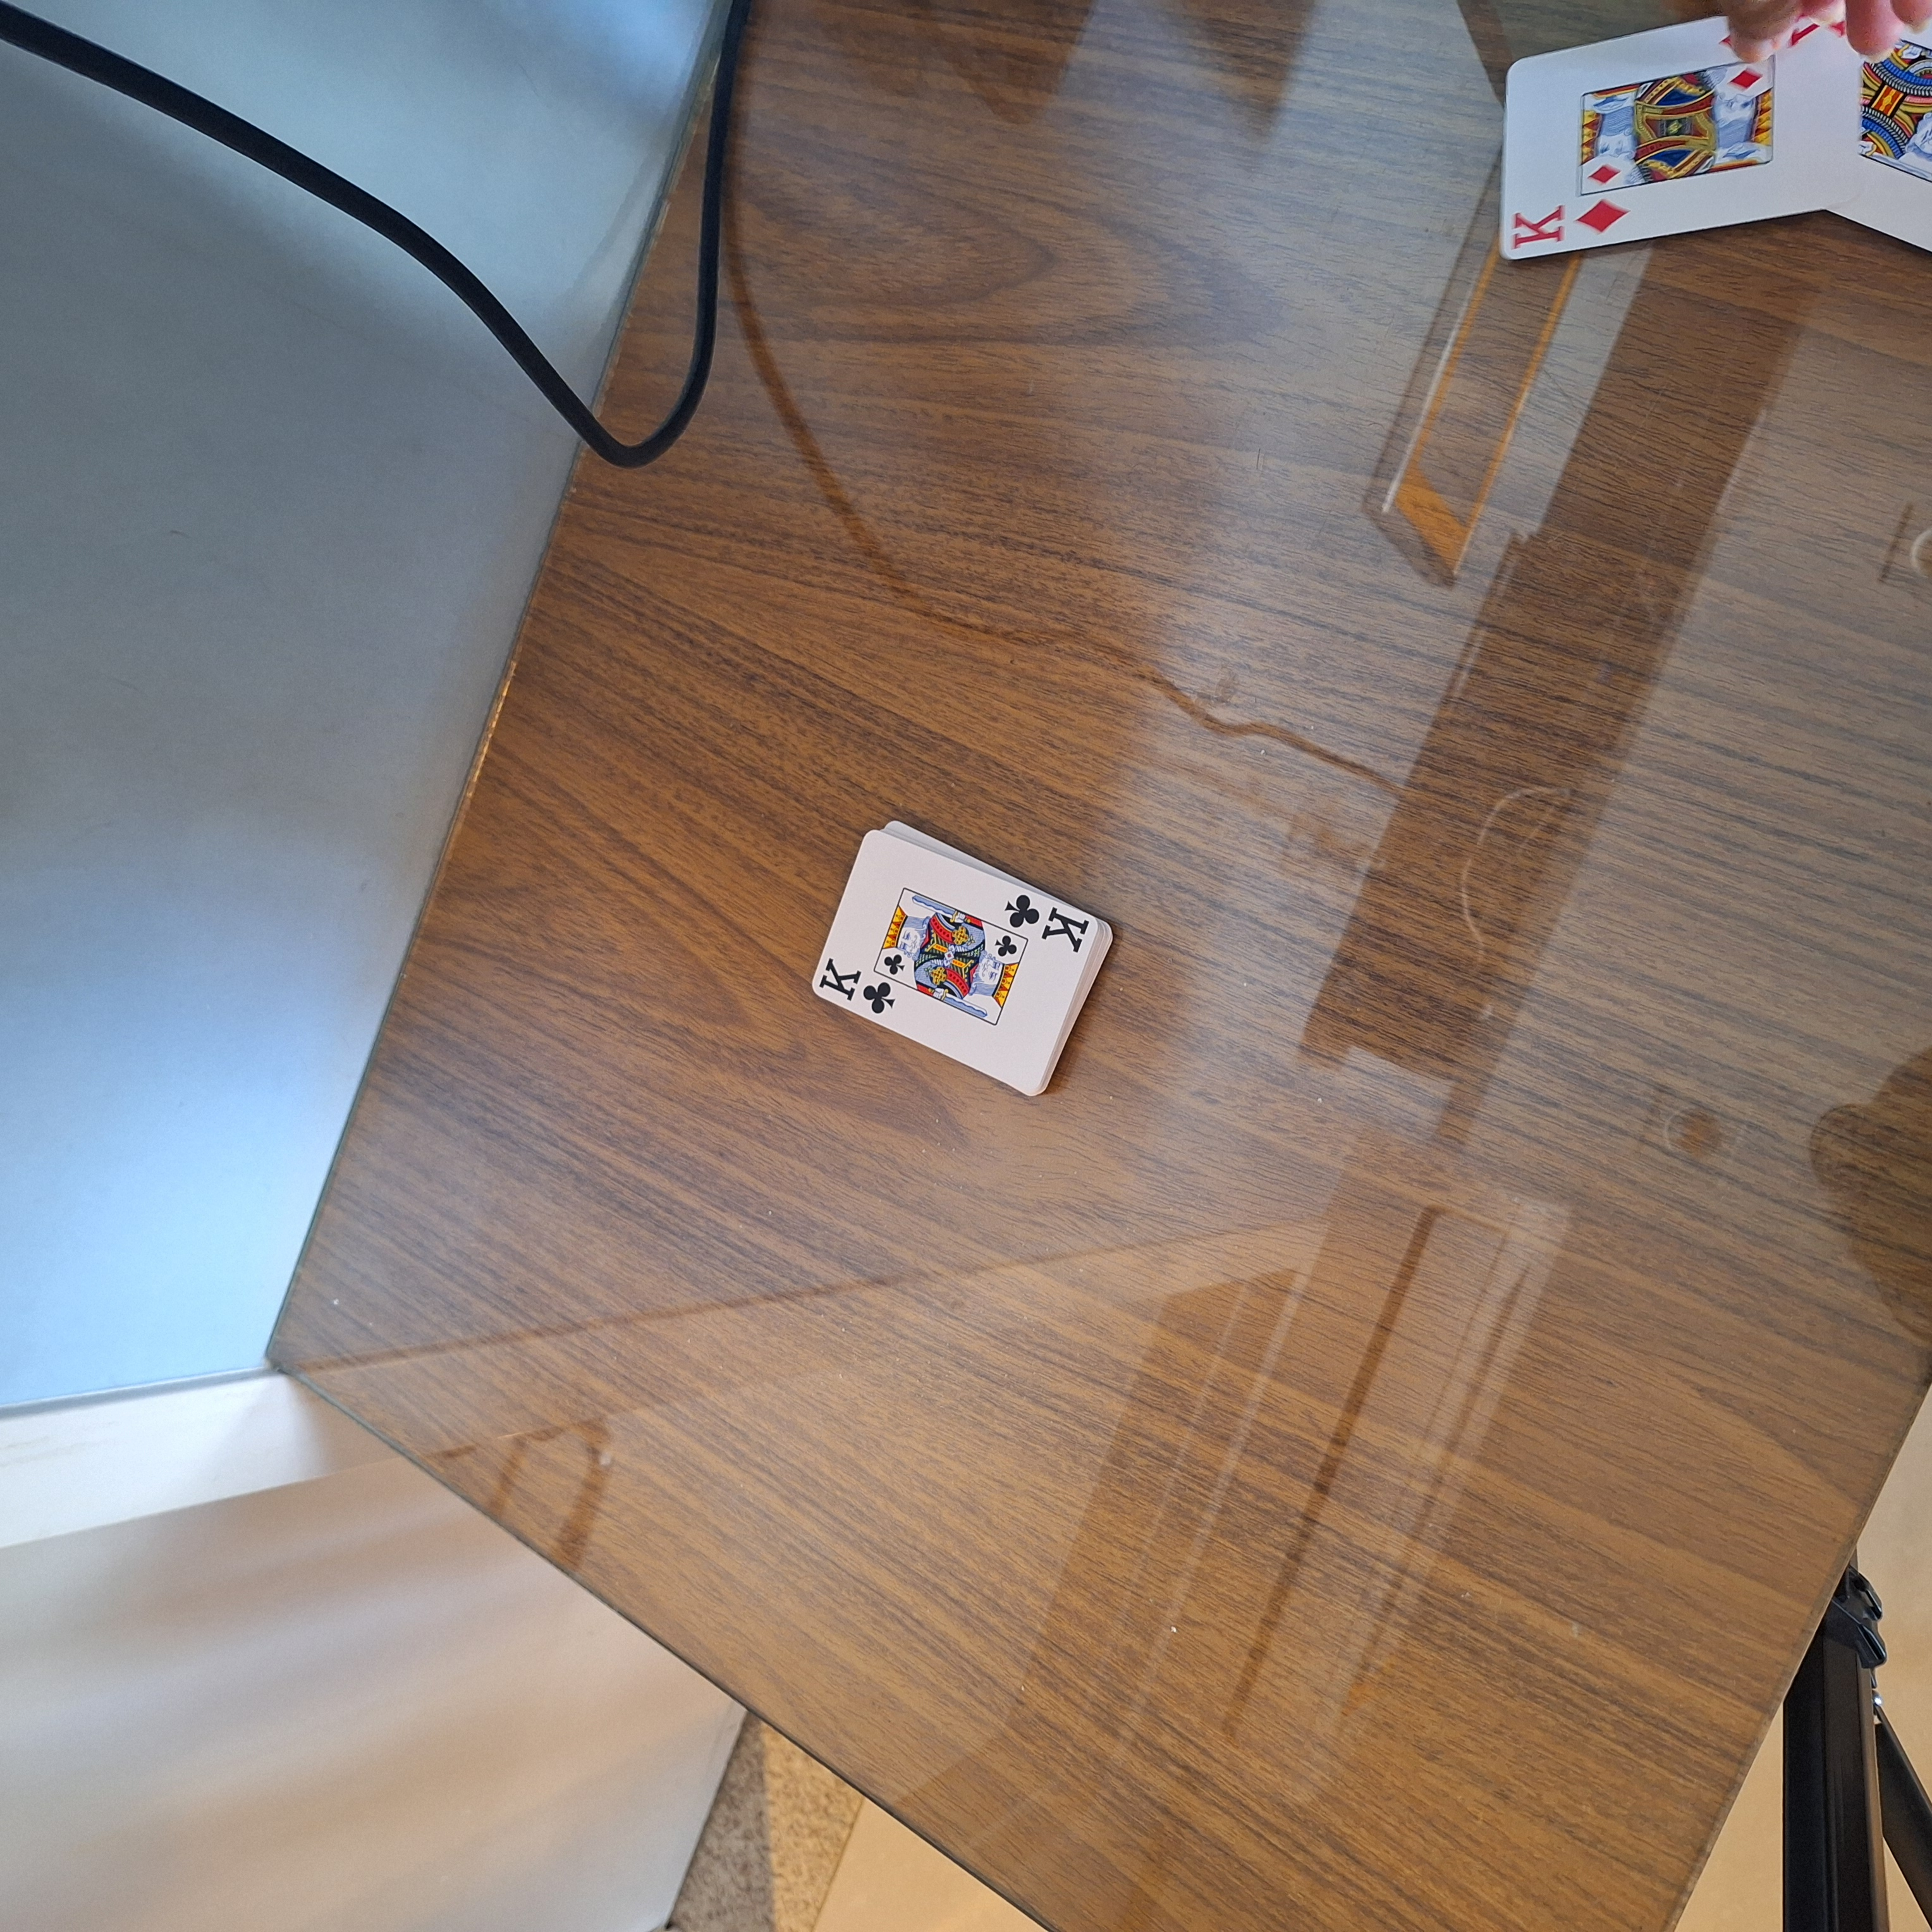KO: (1502, 193, 1635, 260)
KP: (1000, 886, 1092, 962), (807, 952, 897, 1021)
